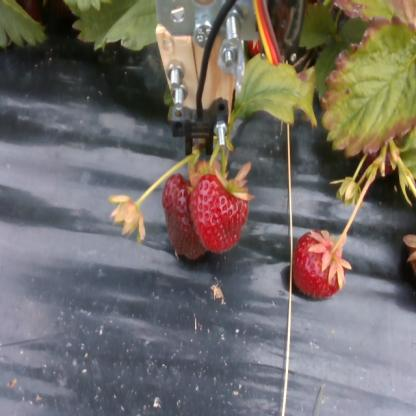ripe: (162, 173, 210, 261), (292, 228, 350, 298), (193, 182, 249, 252)
